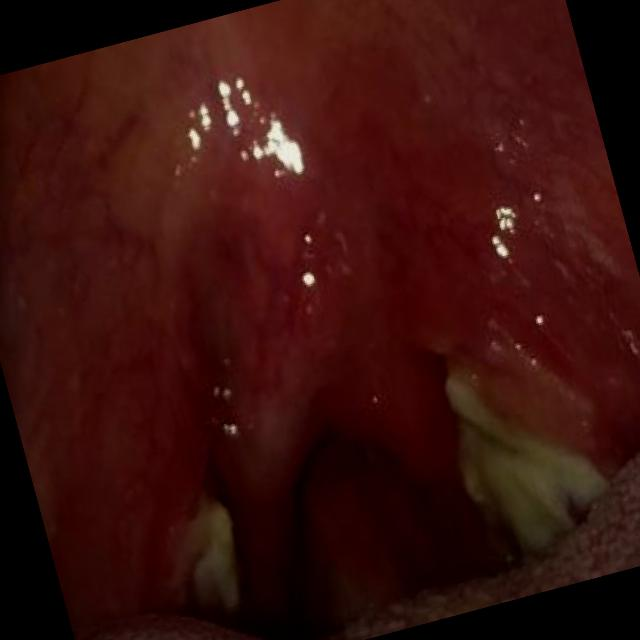pharyngitis: (421, 293, 640, 572), (142, 454, 295, 640)
